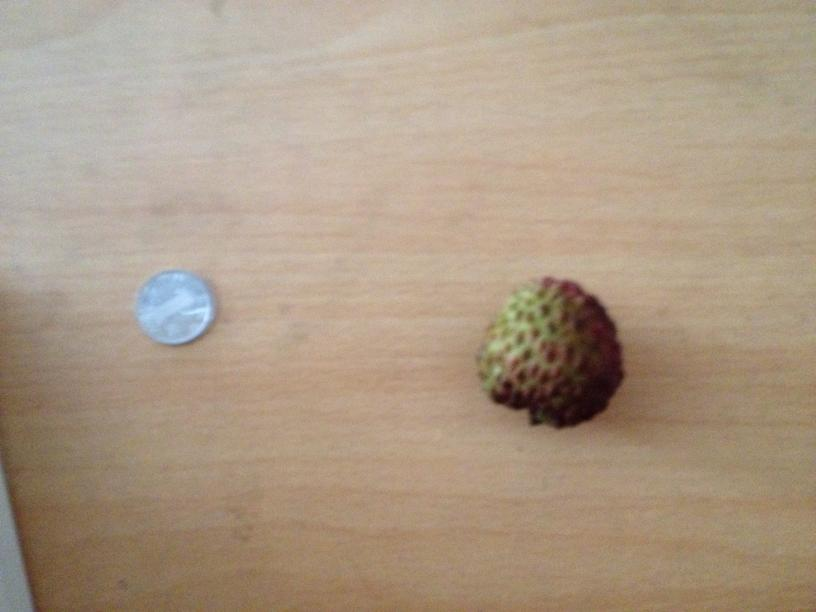coin: (134, 270, 212, 345)
litchi: (476, 275, 622, 429)
